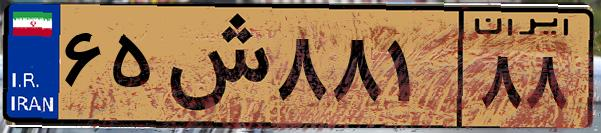1: (385, 28, 445, 110)
5: (110, 28, 158, 98)
6: (57, 26, 110, 100)
8: (270, 28, 330, 110), (330, 28, 385, 110), (475, 38, 525, 113), (525, 38, 570, 115)
ش: (158, 12, 270, 120)
